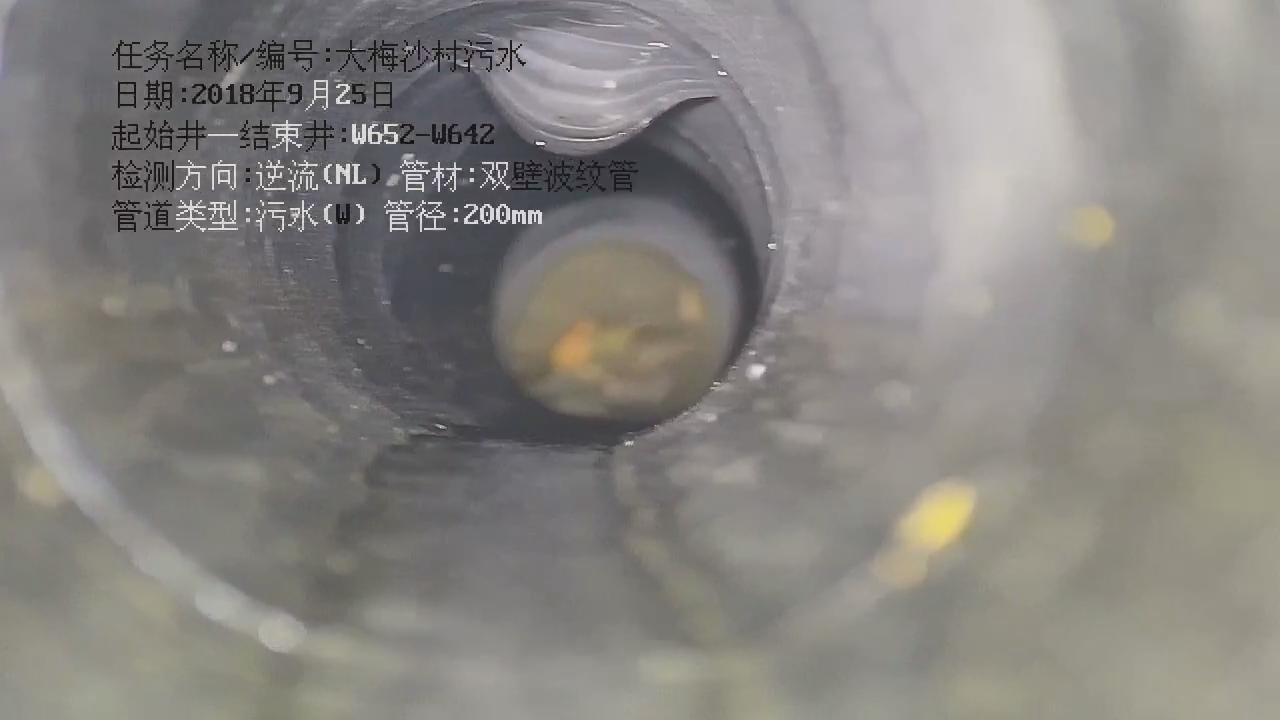BX: (456, 0, 728, 155)
